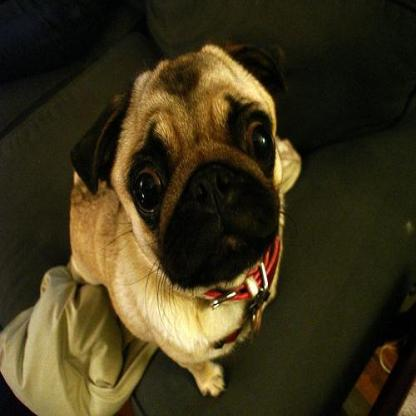pug: (67, 42, 299, 394)
